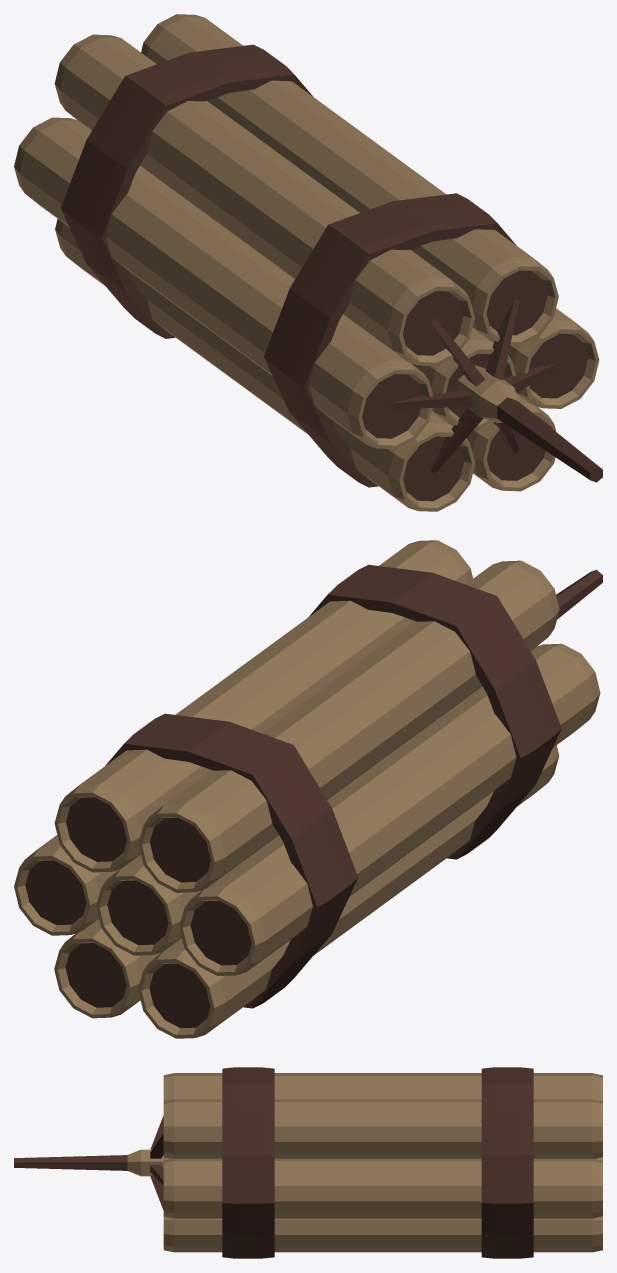
Rendered from В1-Динамит.fbx.
3 views of the same model, one above another, from view 1: azimuth 30°, elevation 25°; view 2: azimuth 150°, elevation 25°; view 3: azimuth 270°, elevation 25° (orthographic). The views are drawn at different scales.
Visible parts, largest first — view 1: Cylinder.004, Cylinder.002, Cylinder.003, Circle.001, Circle, Cylinder.006, Cylinder.007, Cylinder.001, Cylinder.005, Cylinder; view 2: Cylinder.004, Cylinder.002, Cylinder.003, Circle, Circle.001, Cylinder.006, Cylinder, Cylinder.005, Cylinder.001, Cylinder.007; view 3: Cylinder.001, Cylinder.003, Cylinder.005, Circle, Circle.001, Cylinder.004, Cylinder.007.
Part boxes in pixels (x1,y1,x2,y2): Cylinder.004: (54, 34, 474, 366); Cylinder.002: (14, 117, 433, 449); Cylinder.003: (141, 14, 558, 345); Circle.001: (61, 44, 313, 338); Circle: (264, 193, 516, 487); Cylinder.006: (55, 219, 475, 511); Cylinder.007: (391, 299, 602, 482); Cylinder.001: (508, 308, 599, 408); Cylinder.005: (453, 393, 556, 491); Cylinder: (412, 328, 516, 428); Cylinder.004: (138, 560, 559, 892); Cylinder.002: (179, 643, 600, 975); Cylinder.003: (54, 540, 472, 872); Circle: (308, 564, 561, 859); Circle.001: (105, 713, 358, 1008); Cylinder.006: (138, 745, 559, 1038); Cylinder: (96, 855, 200, 955); Cylinder.005: (54, 919, 160, 1018); Cylinder.001: (14, 835, 118, 935); Cylinder.007: (556, 570, 602, 619); Cylinder.001: (163, 1158, 602, 1218); Cylinder.003: (163, 1099, 602, 1158); Cylinder.005: (163, 1216, 602, 1252); Circle: (222, 1067, 274, 1258); Circle.001: (481, 1067, 533, 1258); Cylinder.004: (163, 1073, 602, 1101); Cylinder.007: (14, 1115, 163, 1210).
Size of the model in its own units: 156 by 142 by 477.
